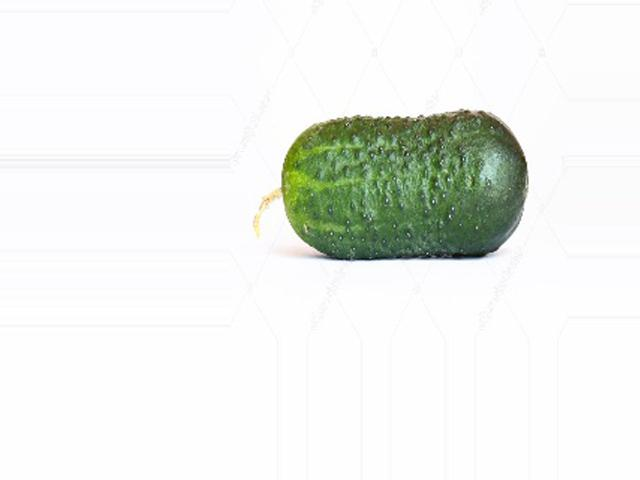cucumber: (251, 112, 526, 257)
